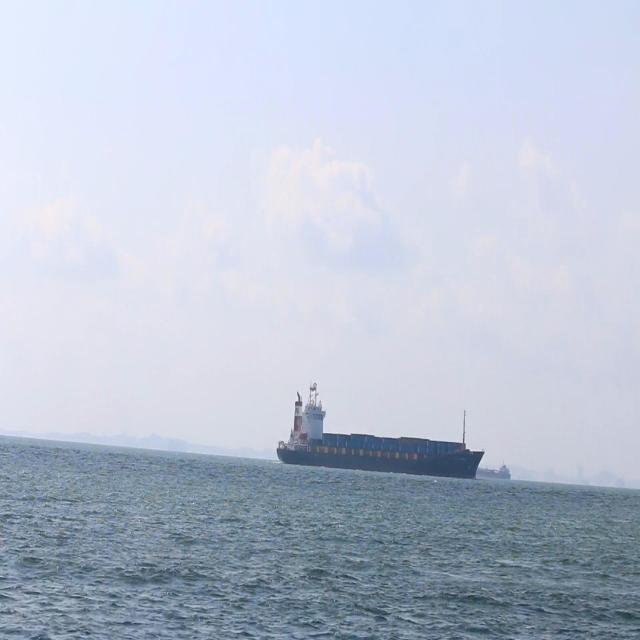CIV_Ship: (274, 382, 486, 479), (474, 456, 514, 484)
